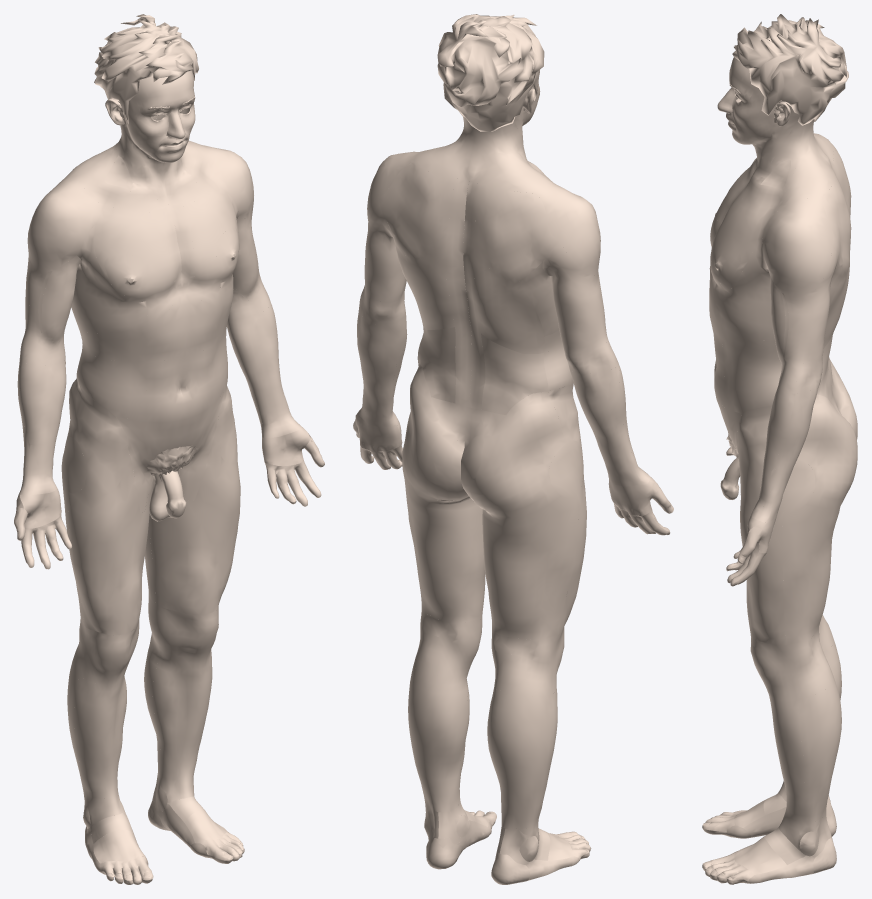
File: skin.glb
3 renders of one model, left to right at view 1: azimuth 30°, elevation 25°; view 2: azimuth 150°, elevation 25°; view 3: azimuth 270°, elevation 25°, orthographic. The views are drawn at different scales.
Visible parts, largest first — view 1: Anterior region of thigh.r.001, Anterior region of thigh.l.001, Hairs of head.001, Anterior region of leg.l.001, Anterior region of leg.r.001, Pectoral region.r.001, Deltoid region.r.001, Anterior region of forearm.l.001, Anterior region of forearm.r.001, Lateral region of thorax.r.001, Lateral region of abdomen.r.001, Pectoral region.l.001 (+47 smaller); view 2: Posterior region of thigh.r.001, Hairs of head.001, Gluteal region.r.001, Posterior region of thigh.l.001, Posterior region of leg.r.001, Posterior region of leg.l.001, Gluteal region.l.001, Scapular region.r.001, Posterior region of arm.r.001, Infrascapular region.r.001, Scapular region.l.001, Posterior region of forearm.r.001 (+32 smaller); view 3: Hairs of head.001, Anterior region of thigh.l.001, Posterior region of thigh.l.001, Deltoid region.l.001, Gluteal region.l.001, Posterior region of leg.l.001, Lateral region of thorax.l.001, Anterior region of leg.l.001, Lateral region of abdomen.l.001, Pectoral region.l.001, Posterior region of arm.l.001, Posterior region of neck.l.001 (+45 smaller).
Boxes of the visible parts, x1,y1,x2,y2 form: Anterior region of thigh.r.001: (68,381,154,635); Anterior region of thigh.l.001: (149,381,240,614); Hairs of head.001: (94,14,198,123); Anterior region of leg.l.001: (152,653,212,779); Anterior region of leg.r.001: (74,673,126,798); Pectoral region.r.001: (94,205,174,302); Deltoid region.r.001: (27,174,90,271); Anterior region of forearm.l.001: (227,304,291,424); Anterior region of forearm.r.001: (21,359,66,480); Lateral region of thorax.r.001: (71,224,147,333); Lateral region of abdomen.r.001: (76,342,146,421); Pectoral region.l.001: (183,179,238,284); Posterior region of thigh.r.001: (482,495,578,639); Hairs of head.001: (437,14,544,131); Gluteal region.r.001: (461,391,566,518); Posterior region of thigh.l.001: (403,471,484,623); Posterior region of leg.r.001: (487,687,554,829); Posterior region of leg.l.001: (408,666,467,812); Gluteal region.l.001: (402,359,469,501); Scapular region.r.001: (485,190,558,286); Posterior region of arm.r.001: (542,241,605,347); Infrascapular region.r.001: (474,273,544,353); Scapular region.l.001: (378,163,435,265); Posterior region of forearm.r.001: (569,368,639,475); Hairs of head.001: (732,14,848,125); Anterior region of thigh.l.001: (737,406,786,645); Posterior region of thigh.l.001: (782,505,840,644); Deltoid region.l.001: (762,196,833,296); Gluteal region.l.001: (797,394,857,508); Posterior region of leg.l.001: (797,678,841,821); Lateral region of thorax.l.001: (714,228,845,342); Anterior region of leg.l.001: (769,695,805,821); Lateral region of abdomen.l.001: (722,346,781,413); Pectoral region.l.001: (710,196,768,290); Posterior region of arm.l.001: (798,247,838,363); Posterior region of neck.l.001: (783,119,833,198).
Bounding box in the file's own units: 0.6801 × 1.74 × 0.294.
